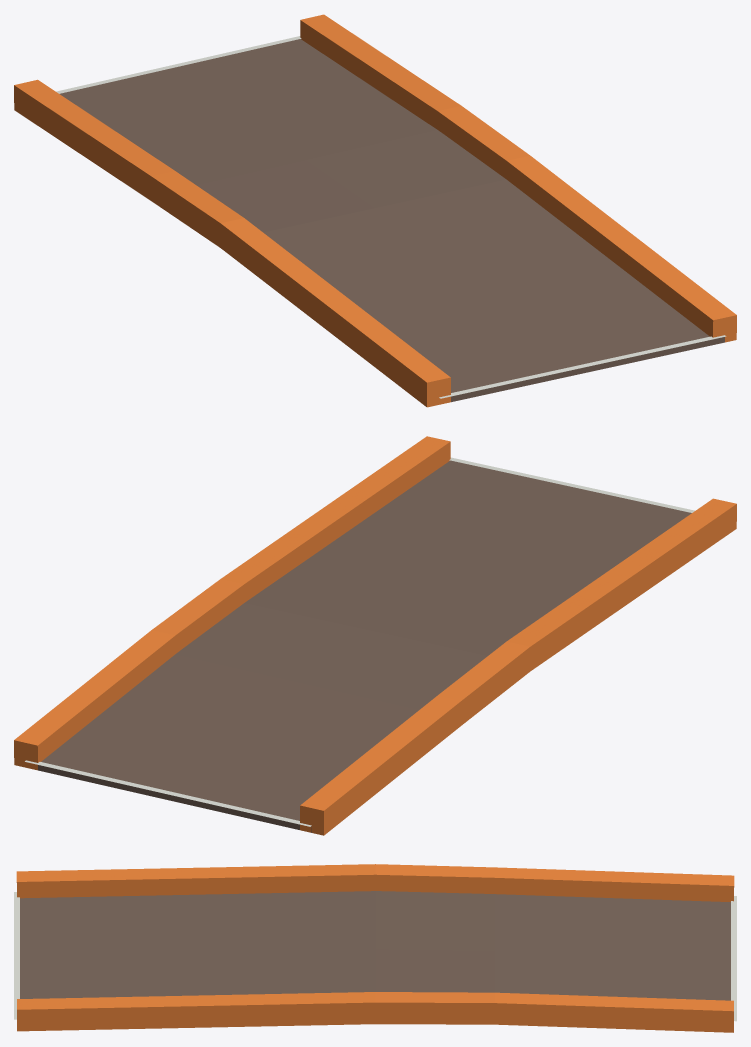
File: SM_MP_Film_B_2_1.fbx
3 renders of one model, top to bottom at view 1: azimuth 30°, elevation 25°; view 2: azimuth 150°, elevation 25°; view 3: azimuth 270°, elevation 25°, orthographic. The views are drawn at different scales.
Visible parts, largest first — view 1: SM_MP_Film_B_2_1; view 2: SM_MP_Film_B_2_1; view 3: SM_MP_Film_B_2_1.
Boxes of the visible parts, x1,y1,x2,y2 form: SM_MP_Film_B_2_1: [14, 14, 736, 407]; SM_MP_Film_B_2_1: [14, 436, 736, 835]; SM_MP_Film_B_2_1: [14, 864, 736, 1032].
Size of what is drawn, in the model's own units: 260 by 605 by 34.5.
